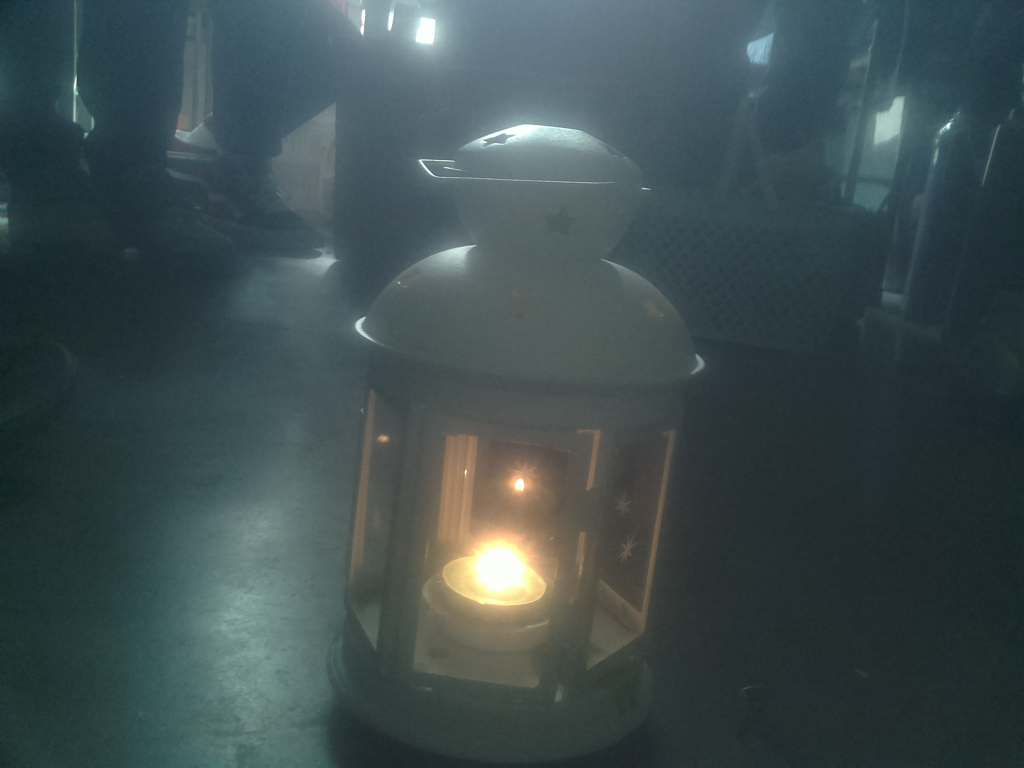fire: (440, 523, 580, 651)
